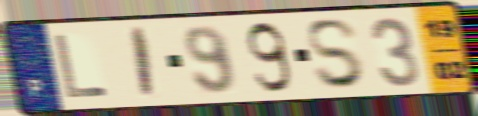3: (370, 15, 421, 89)
9: (182, 23, 239, 97), (243, 20, 295, 95)
I: (131, 25, 157, 101)
L: (51, 32, 112, 101)
S: (304, 16, 369, 92)
